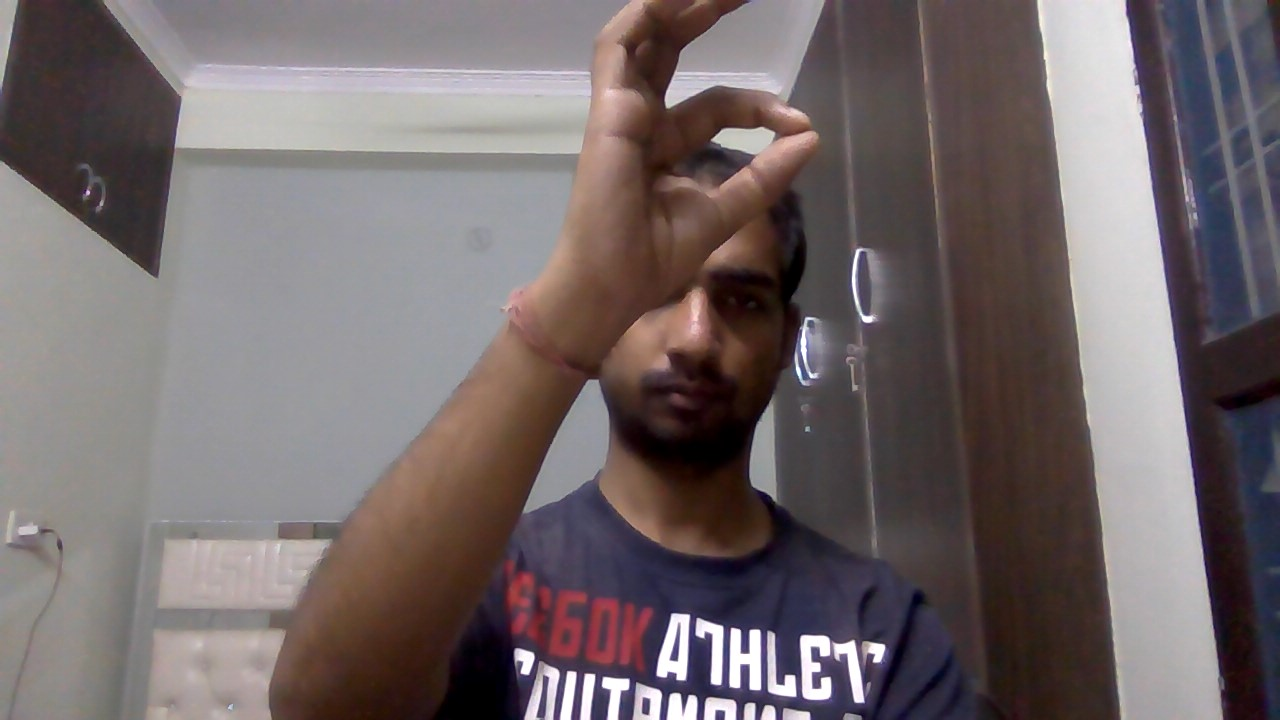Copy: (536, 3, 827, 317)
